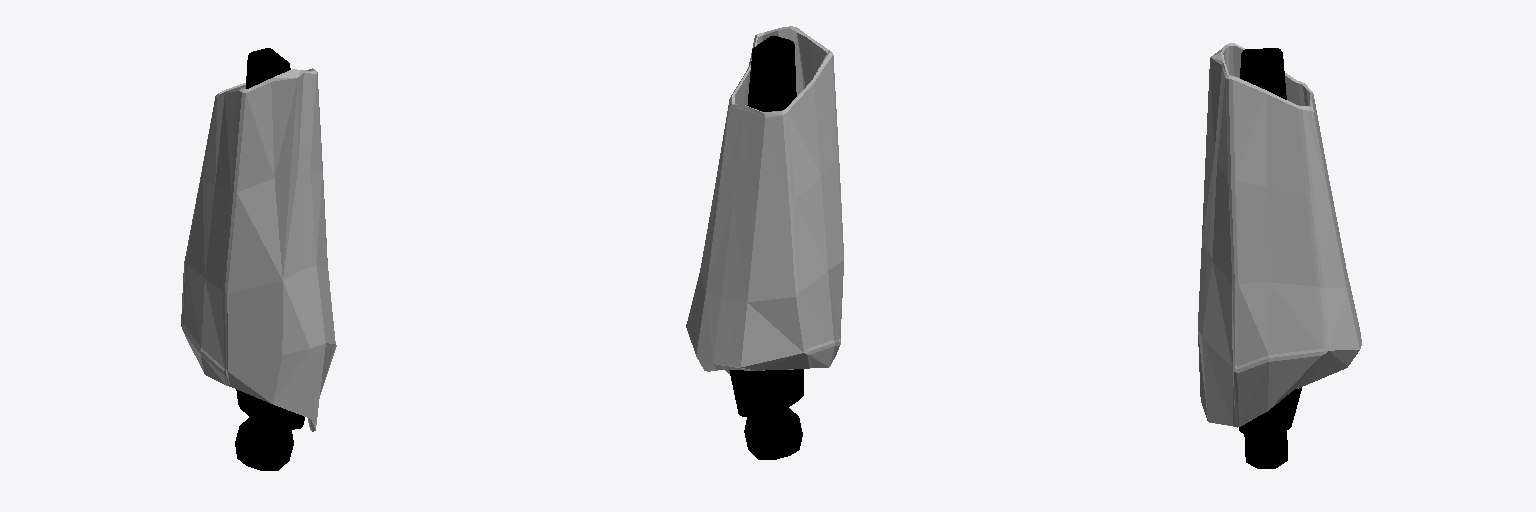
File: Upper_Leg_right.obj
The picture shows the model from 3 angles: view 1: azimuth 30°, elevation 25°; view 2: azimuth 150°, elevation 25°; view 3: azimuth 270°, elevation 25°; orthographic projection.
Visible parts, largest first — view 1: upper_leg_right, joint_upper_leg_right; view 2: upper_leg_right, joint_upper_leg_right; view 3: upper_leg_right, joint_upper_leg_right.
Part boxes in pixels (left/top/right/bottom): upper_leg_right: left=181, top=68, right=336, bottom=431; joint_upper_leg_right: left=235, top=48, right=304, bottom=470; upper_leg_right: left=686, top=26, right=843, bottom=373; joint_upper_leg_right: left=729, top=36, right=803, bottom=459; upper_leg_right: left=1198, top=43, right=1361, bottom=427; joint_upper_leg_right: left=1239, top=48, right=1301, bottom=468.
Size of the model in its own units: 0.3137 by 1.01 by 0.3653.